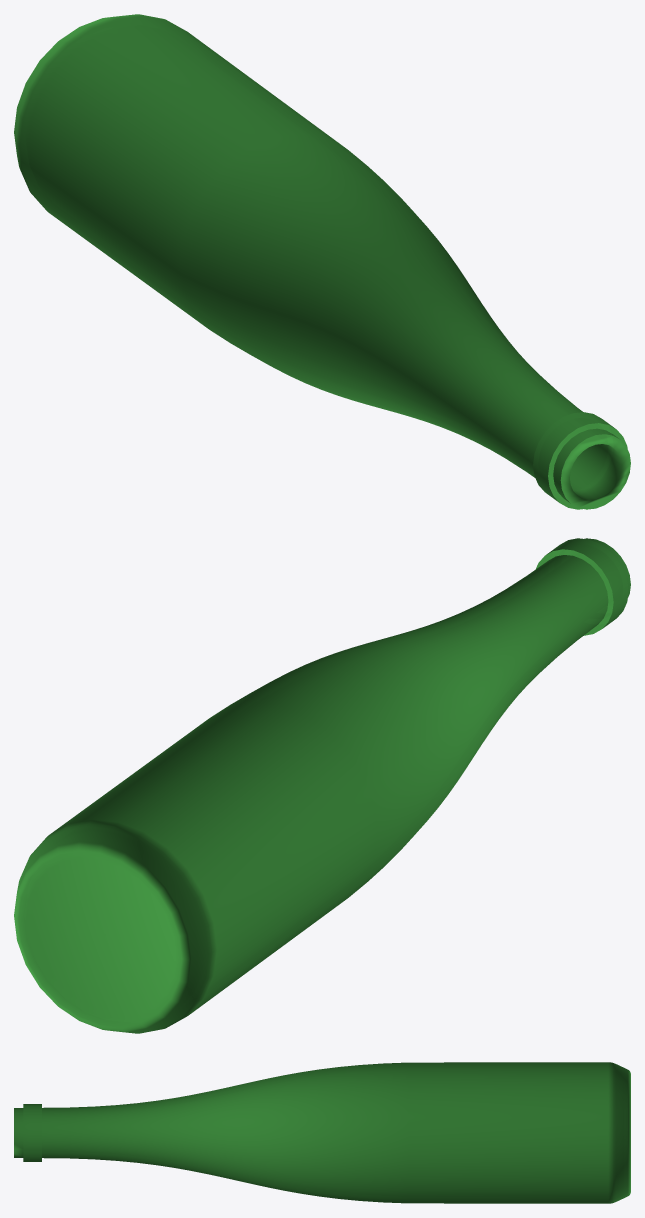
Rendered from model_align.obj.
The picture shows the model from 3 angles, top to bottom: view 1: azimuth 30°, elevation 25°; view 2: azimuth 150°, elevation 25°; view 3: azimuth 270°, elevation 25°; orthographic projection. The views are drawn at different scales.
Parts seen in each view (by area): view 1: mesh1_mesh1-geometry; view 2: mesh1_mesh1-geometry; view 3: mesh1_mesh1-geometry.
Part boxes in pixels (box(x1,y1,x2,y2)): mesh1_mesh1-geometry: box(14, 14, 630, 509); mesh1_mesh1-geometry: box(14, 538, 630, 1033); mesh1_mesh1-geometry: box(14, 1062, 630, 1203).
Size of the model in its own units: 0.0368 by 0.0368 by 0.16.
